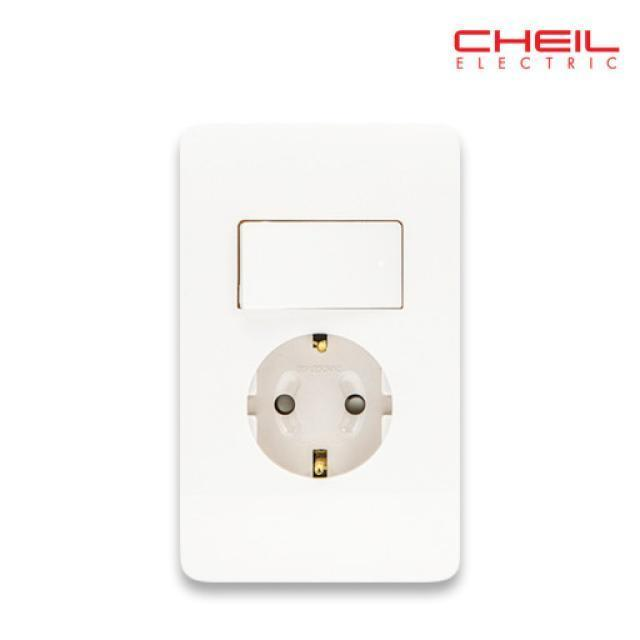typeb: (162, 107, 474, 603)
